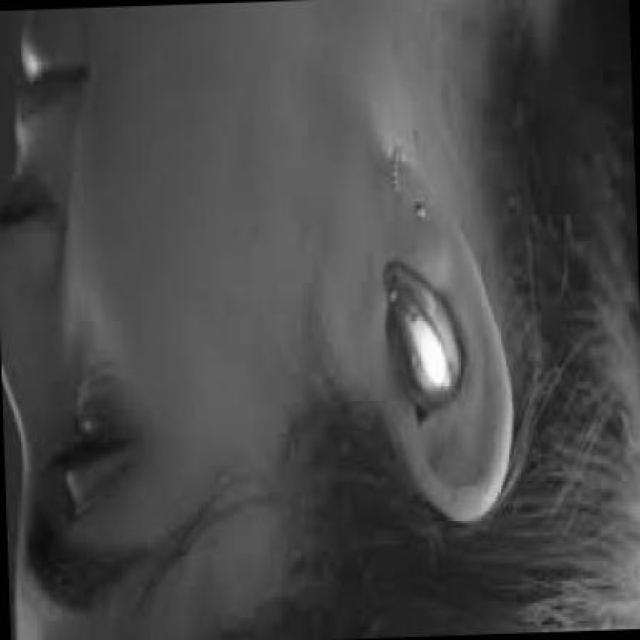earphone: (350, 215, 489, 460)
